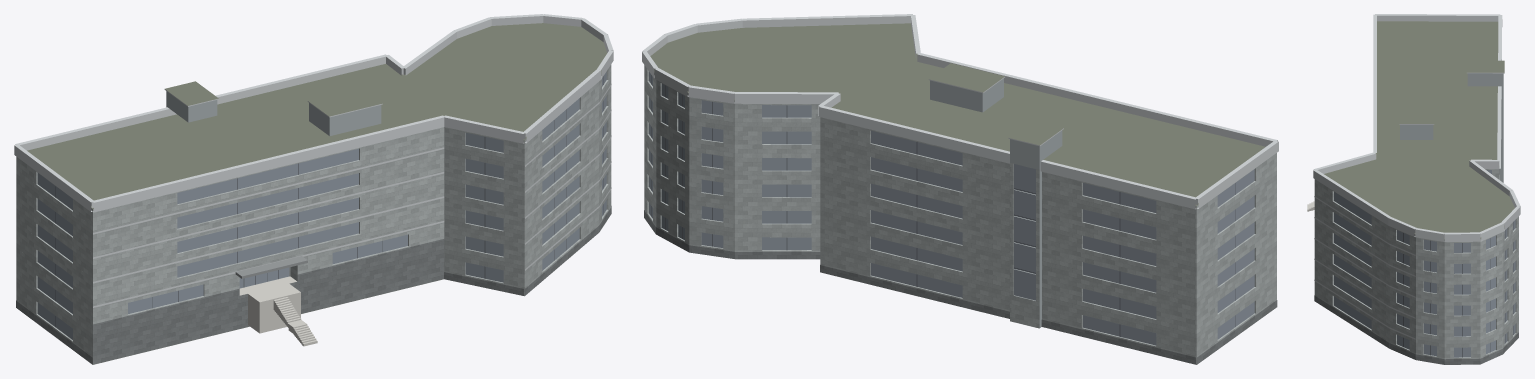
The picture shows the model from 3 angles, left to right: view 1: azimuth 30°, elevation 25°; view 2: azimuth 150°, elevation 25°; view 3: azimuth 270°, elevation 25°; orthographic projection. The views are drawn at different scales.
Parts seen in each view (by area): view 1: b104_1__wall, b104_1__roof, b104_1__glass, b104_1__trim, b104_1__base, b104_1__entranceStair, b104_1__wall2, b104_1__canopy, b104_1__frame; view 2: b104_1__wall, b104_1__roof, b104_1__glass, b104_1__trim, b104_1__base, b104_1__wall2, b104_1__frame; view 3: b104_1__roof, b104_1__wall, b104_1__trim, b104_1__glass, b104_1__wall2, b104_1__base, b104_1__frame.
Boxes of the visible parts, left/top/right/bottom form: b104_1__wall: left=16, top=64, right=611, bottom=364; b104_1__roof: left=27, top=23, right=607, bottom=364; b104_1__glass: left=37, top=72, right=606, bottom=339; b104_1__trim: left=14, top=14, right=613, bottom=307; b104_1__base: left=16, top=206, right=611, bottom=364; b104_1__entranceStair: left=239, top=276, right=317, bottom=346; b104_1__wall2: left=166, top=91, right=381, bottom=136; b104_1__canopy: left=235, top=256, right=307, bottom=278; b104_1__frame: left=55, top=76, right=603, bottom=327; b104_1__wall: left=644, top=65, right=1276, bottom=364; b104_1__roof: left=650, top=23, right=1265, bottom=364; b104_1__glass: left=649, top=72, right=1254, bottom=345; b104_1__trim: left=642, top=14, right=1278, bottom=209; b104_1__base: left=644, top=210, right=1277, bottom=364; b104_1__wall2: left=930, top=78, right=1062, bottom=327; b104_1__frame: left=651, top=75, right=1235, bottom=336; b104_1__roof: left=1324, top=21, right=1514, bottom=364; b104_1__wall: left=1314, top=166, right=1518, bottom=359; b104_1__trim: left=1313, top=14, right=1520, bottom=339; b104_1__glass: left=1334, top=170, right=1515, bottom=357; b104_1__wall2: left=1400, top=73, right=1503, bottom=182; b104_1__base: left=1314, top=295, right=1518, bottom=364; b104_1__frame: left=1403, top=221, right=1513, bottom=357.
Bounding box in the file's own units: 81.29 × 25.01 × 33.26.
10 materials, 2 textured.
